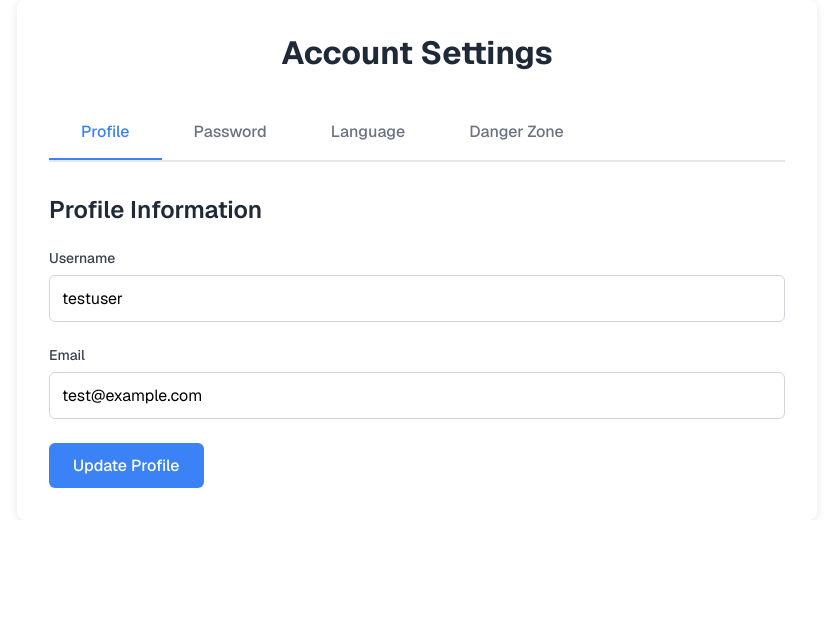
it: AccountSettings › switches to password tab when clicked
Click the button "Password": (230, 132) [162, 105, 299, 160]
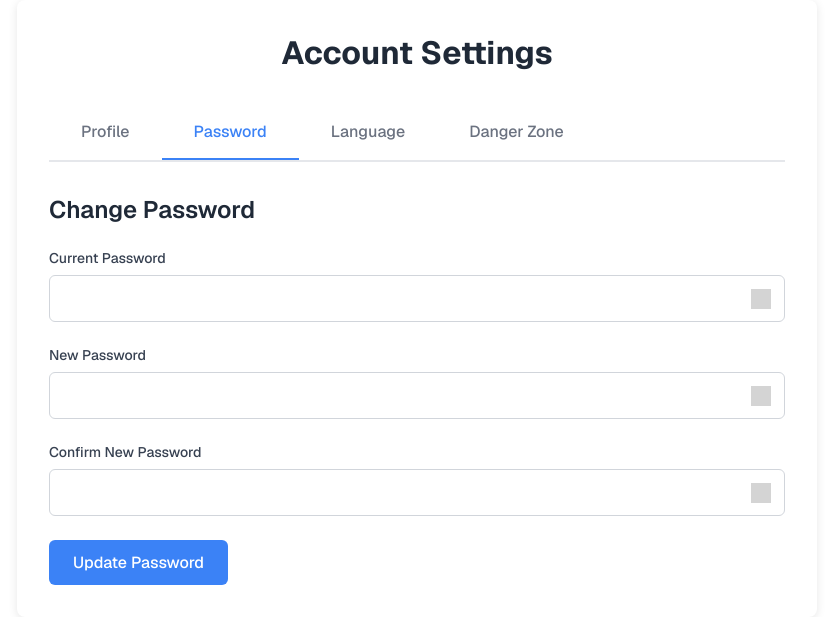
Expected: the heading "Change Password" is shown, [49, 194, 255, 225]
Expected: the password field labelled "Current Password" is shown, [49, 275, 785, 322]
Expected: the password field labelled "New Password" is shown, [49, 372, 785, 419]
